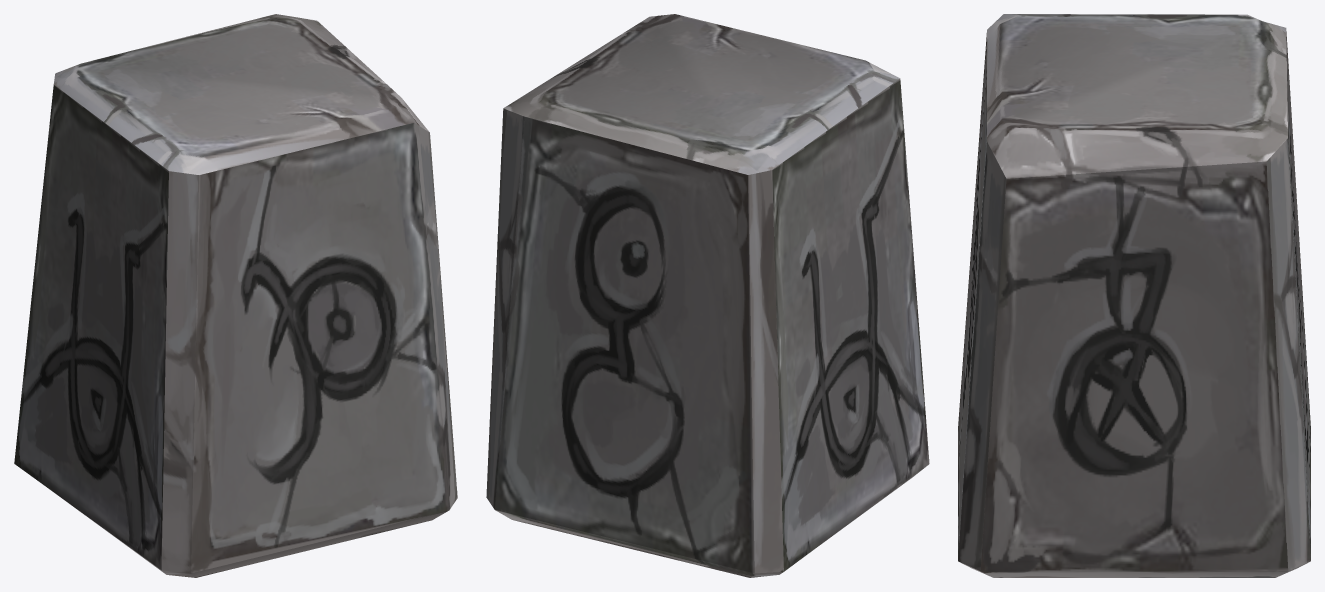
The model's file is odelisk_box3.FBX.
3 views of the same model, side by side, from view 1: azimuth 30°, elevation 25°; view 2: azimuth 150°, elevation 25°; view 3: azimuth 270°, elevation 25° (orthographic). The views are drawn at different scales.
Parts seen in each view (by area): view 1: lock006; view 2: lock006; view 3: lock006.
Boxes of the visible parts, left/top/right/bottom form: lock006: left=14, top=14, right=457, bottom=577; lock006: left=486, top=14, right=929, bottom=577; lock006: left=958, top=14, right=1310, bottom=577.
Size of the model in its own units: 47.89 by 62.64 by 46.13.
